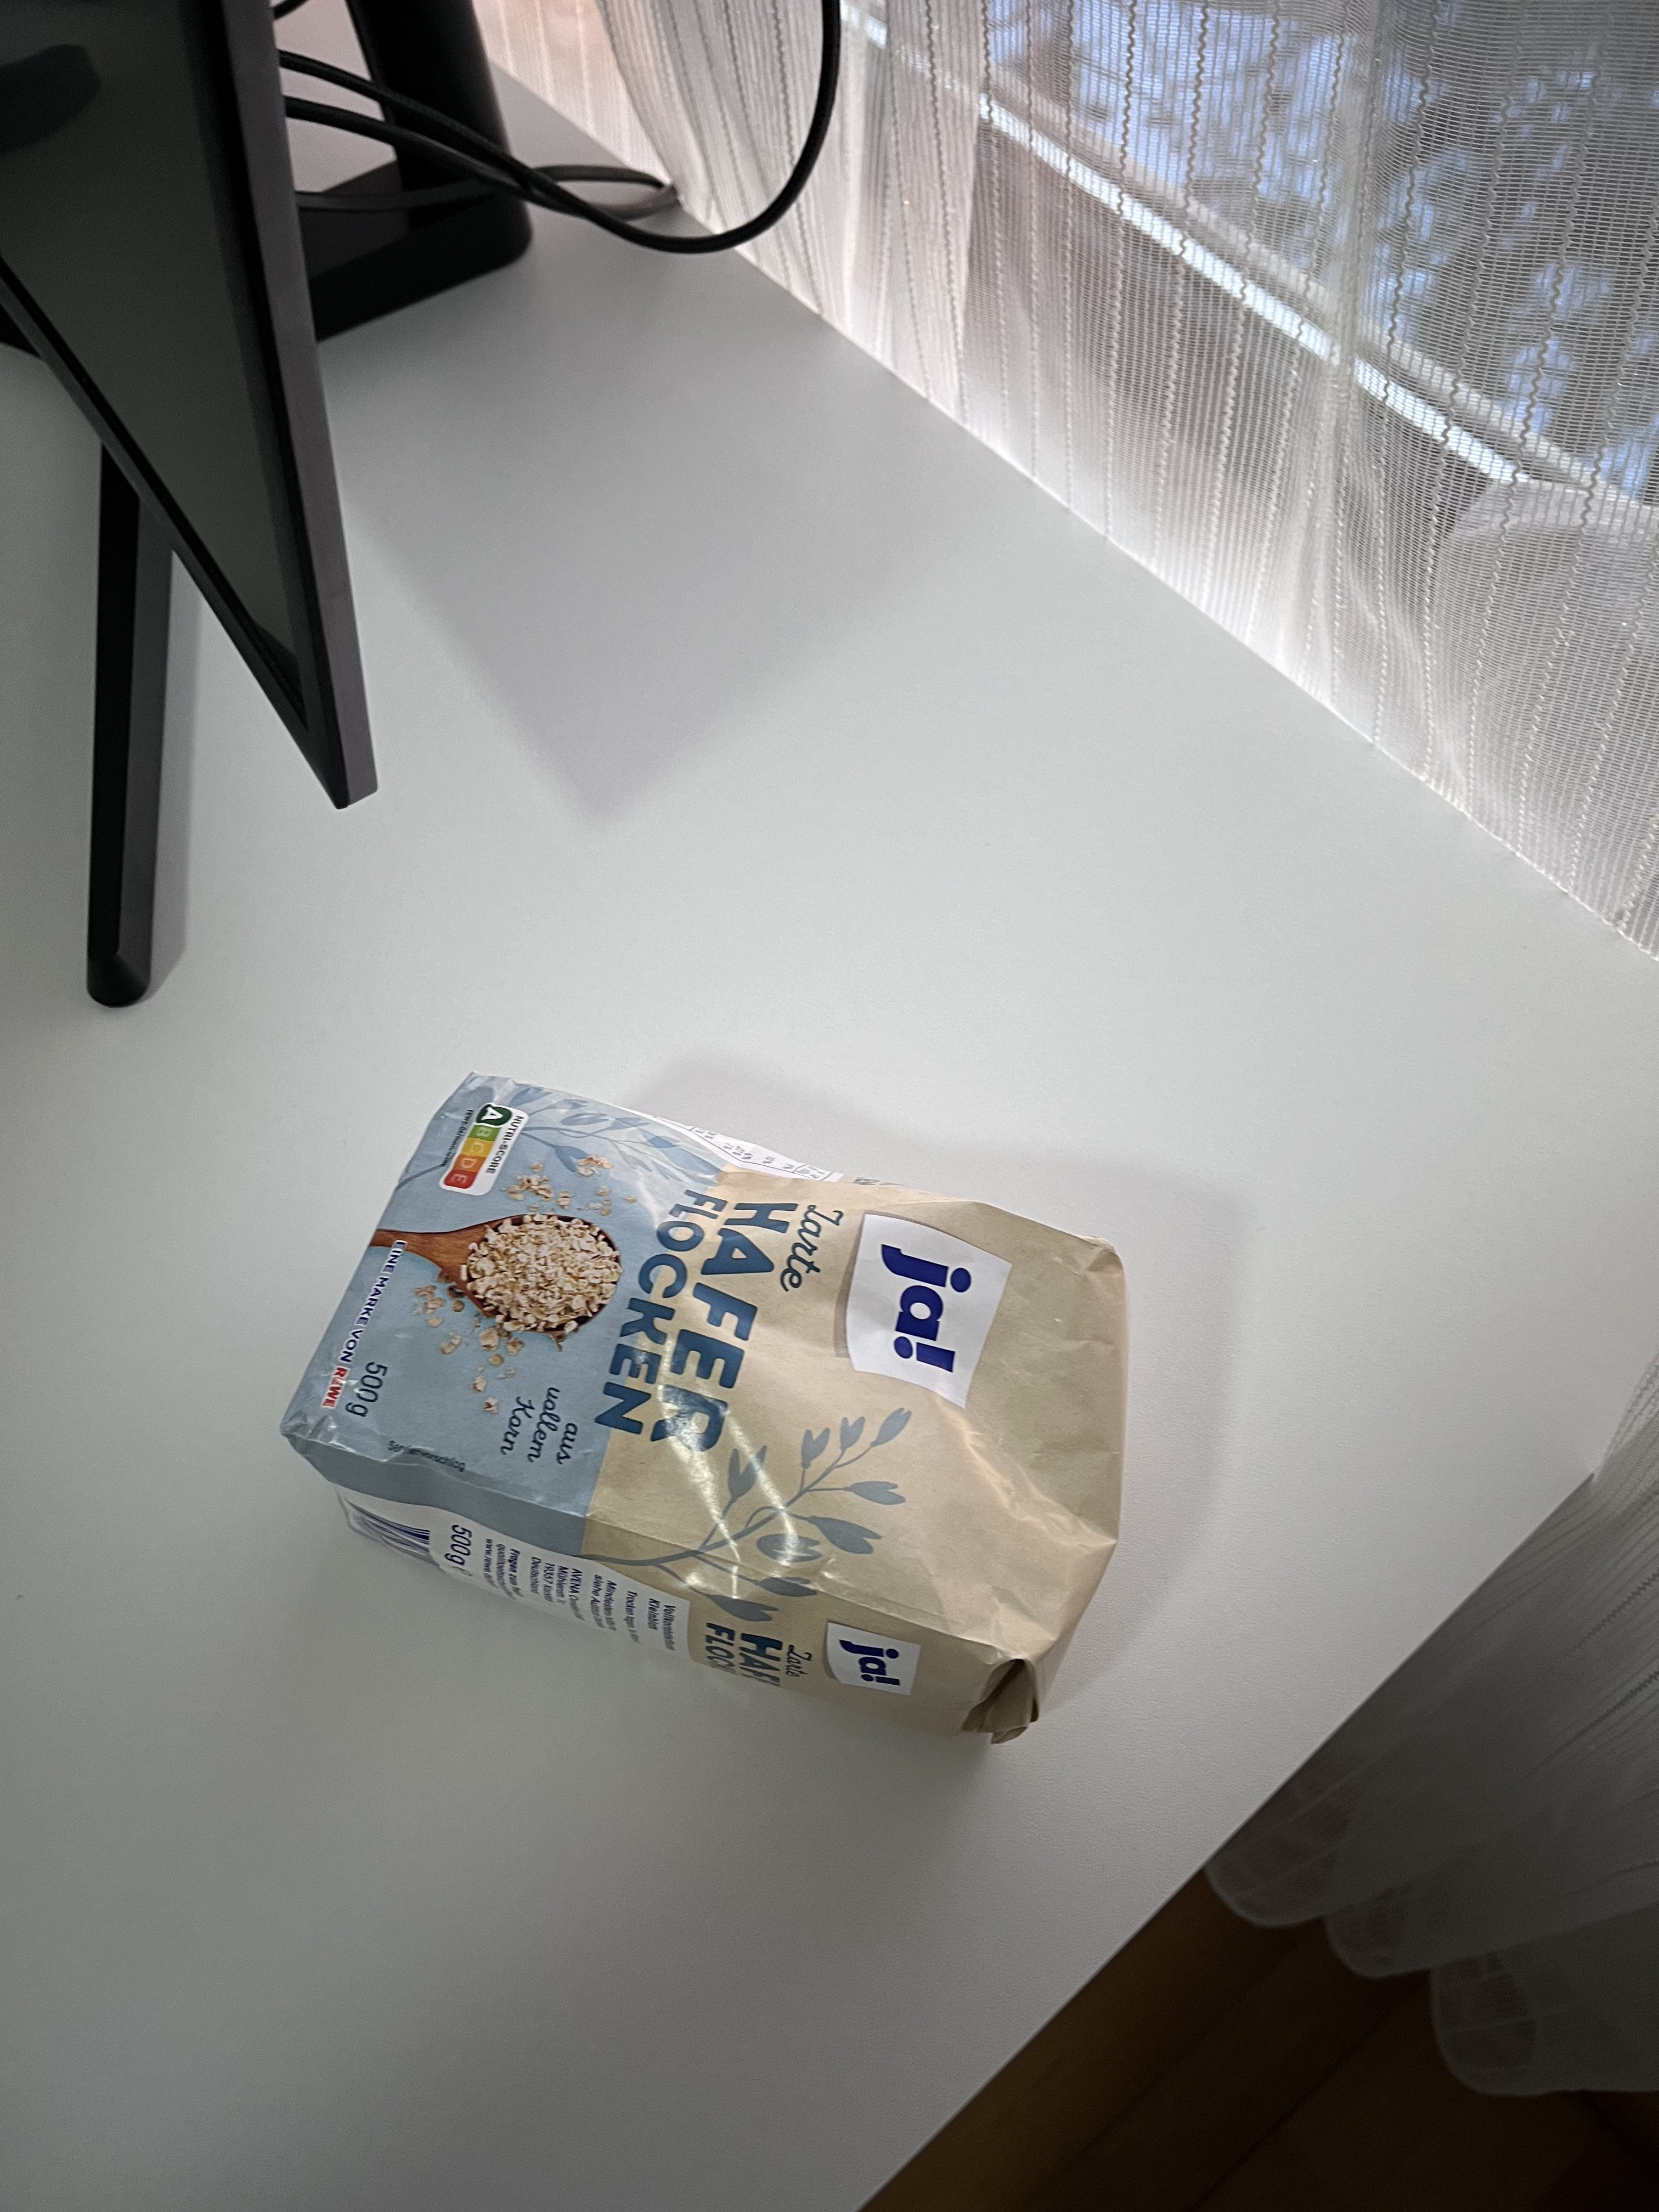haferflocken_ja: (286, 1071, 1131, 1745)
